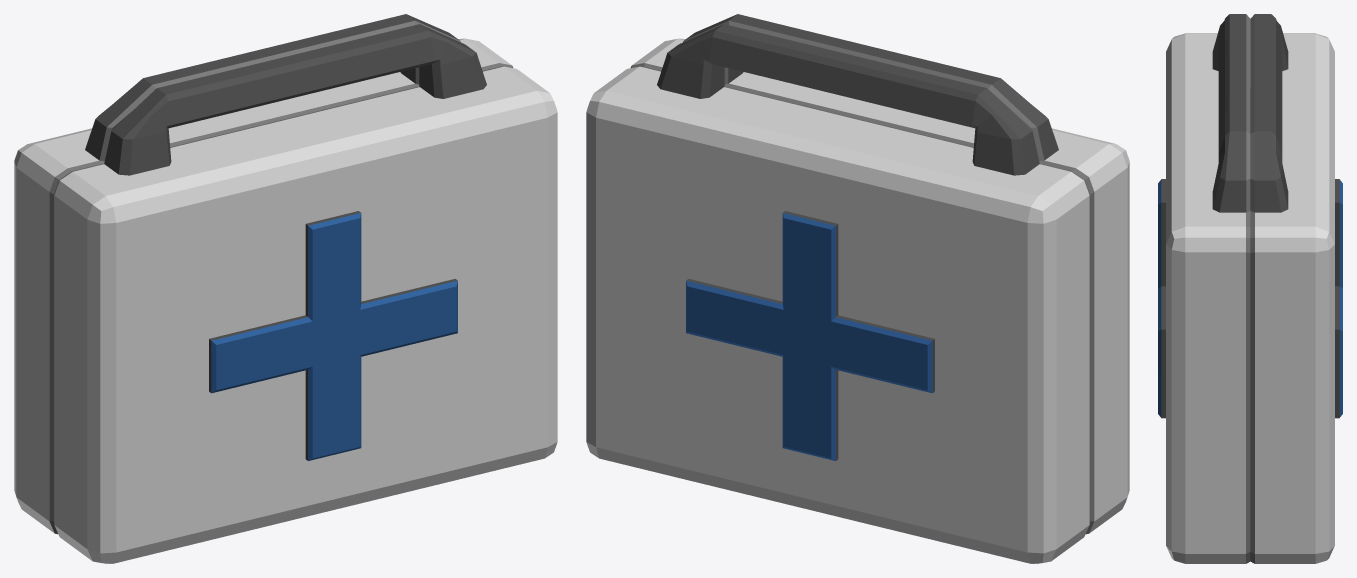
Rendered from medkit.glb.
3 renders of one model, left to right at view 1: azimuth 30°, elevation 25°; view 2: azimuth 150°, elevation 25°; view 3: azimuth 270°, elevation 25°, orthographic. The views are drawn at different scales.
Parts seen in each view (by area): view 1: Cube.001; view 2: Cube.001; view 3: Cube.001.
Part boxes in pixels (left/top/right/bottom): Cube.001: left=14, top=14, right=557, bottom=563; Cube.001: left=586, top=14, right=1129, bottom=563; Cube.001: left=1158, top=14, right=1342, bottom=563.
Size of the model in its own units: 0.38 by 0.3343 by 0.142.
